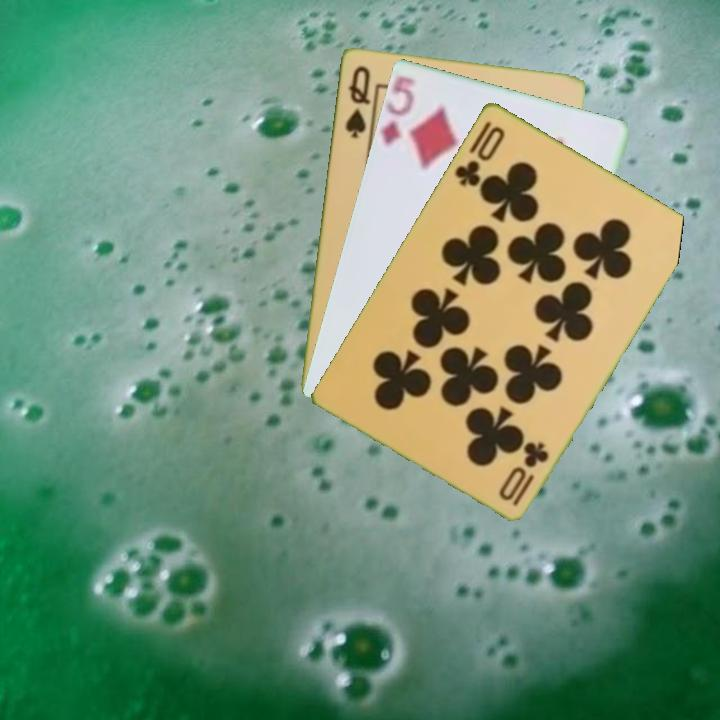10c: (450, 122, 508, 189), (508, 437, 552, 509)
5d: (377, 75, 417, 149)
Qs: (341, 62, 373, 140)
